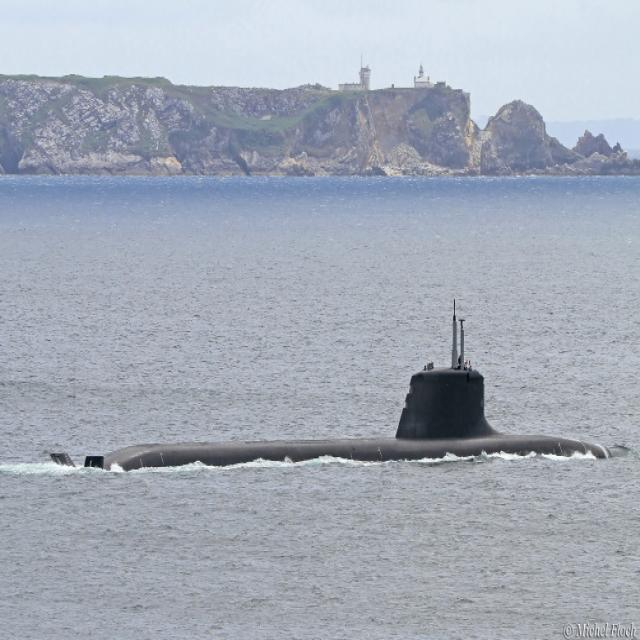submarine: (57, 366, 613, 465)
